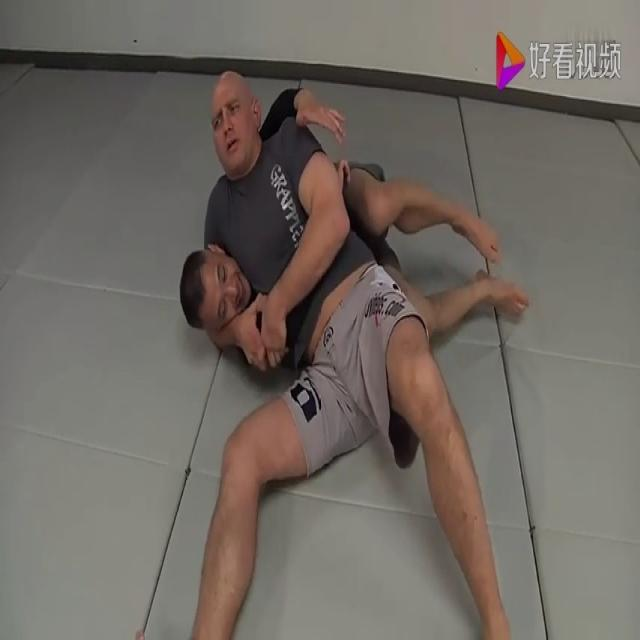fight: (154, 71, 576, 638)
